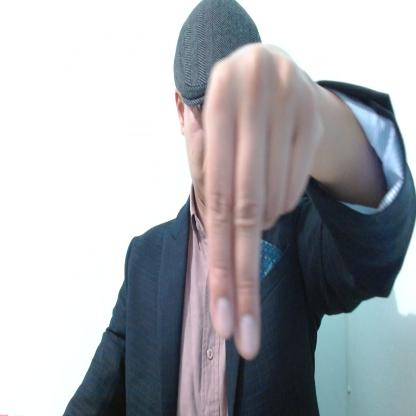N: (204, 40, 324, 361)
